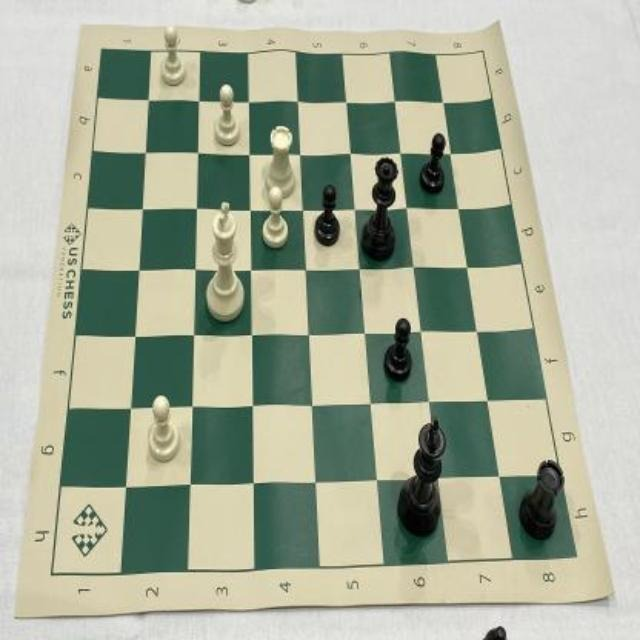black-king: (393, 416, 448, 540)
black-pawn: (380, 313, 416, 386), (310, 180, 343, 249), (418, 130, 450, 197)
black-queen: (358, 153, 398, 266)
black-rook: (519, 453, 566, 543)
white-king: (201, 201, 247, 324)
white-pawn: (146, 392, 184, 467), (157, 20, 189, 89), (260, 184, 290, 252), (212, 82, 242, 148)
white-rook: (263, 123, 299, 201)
